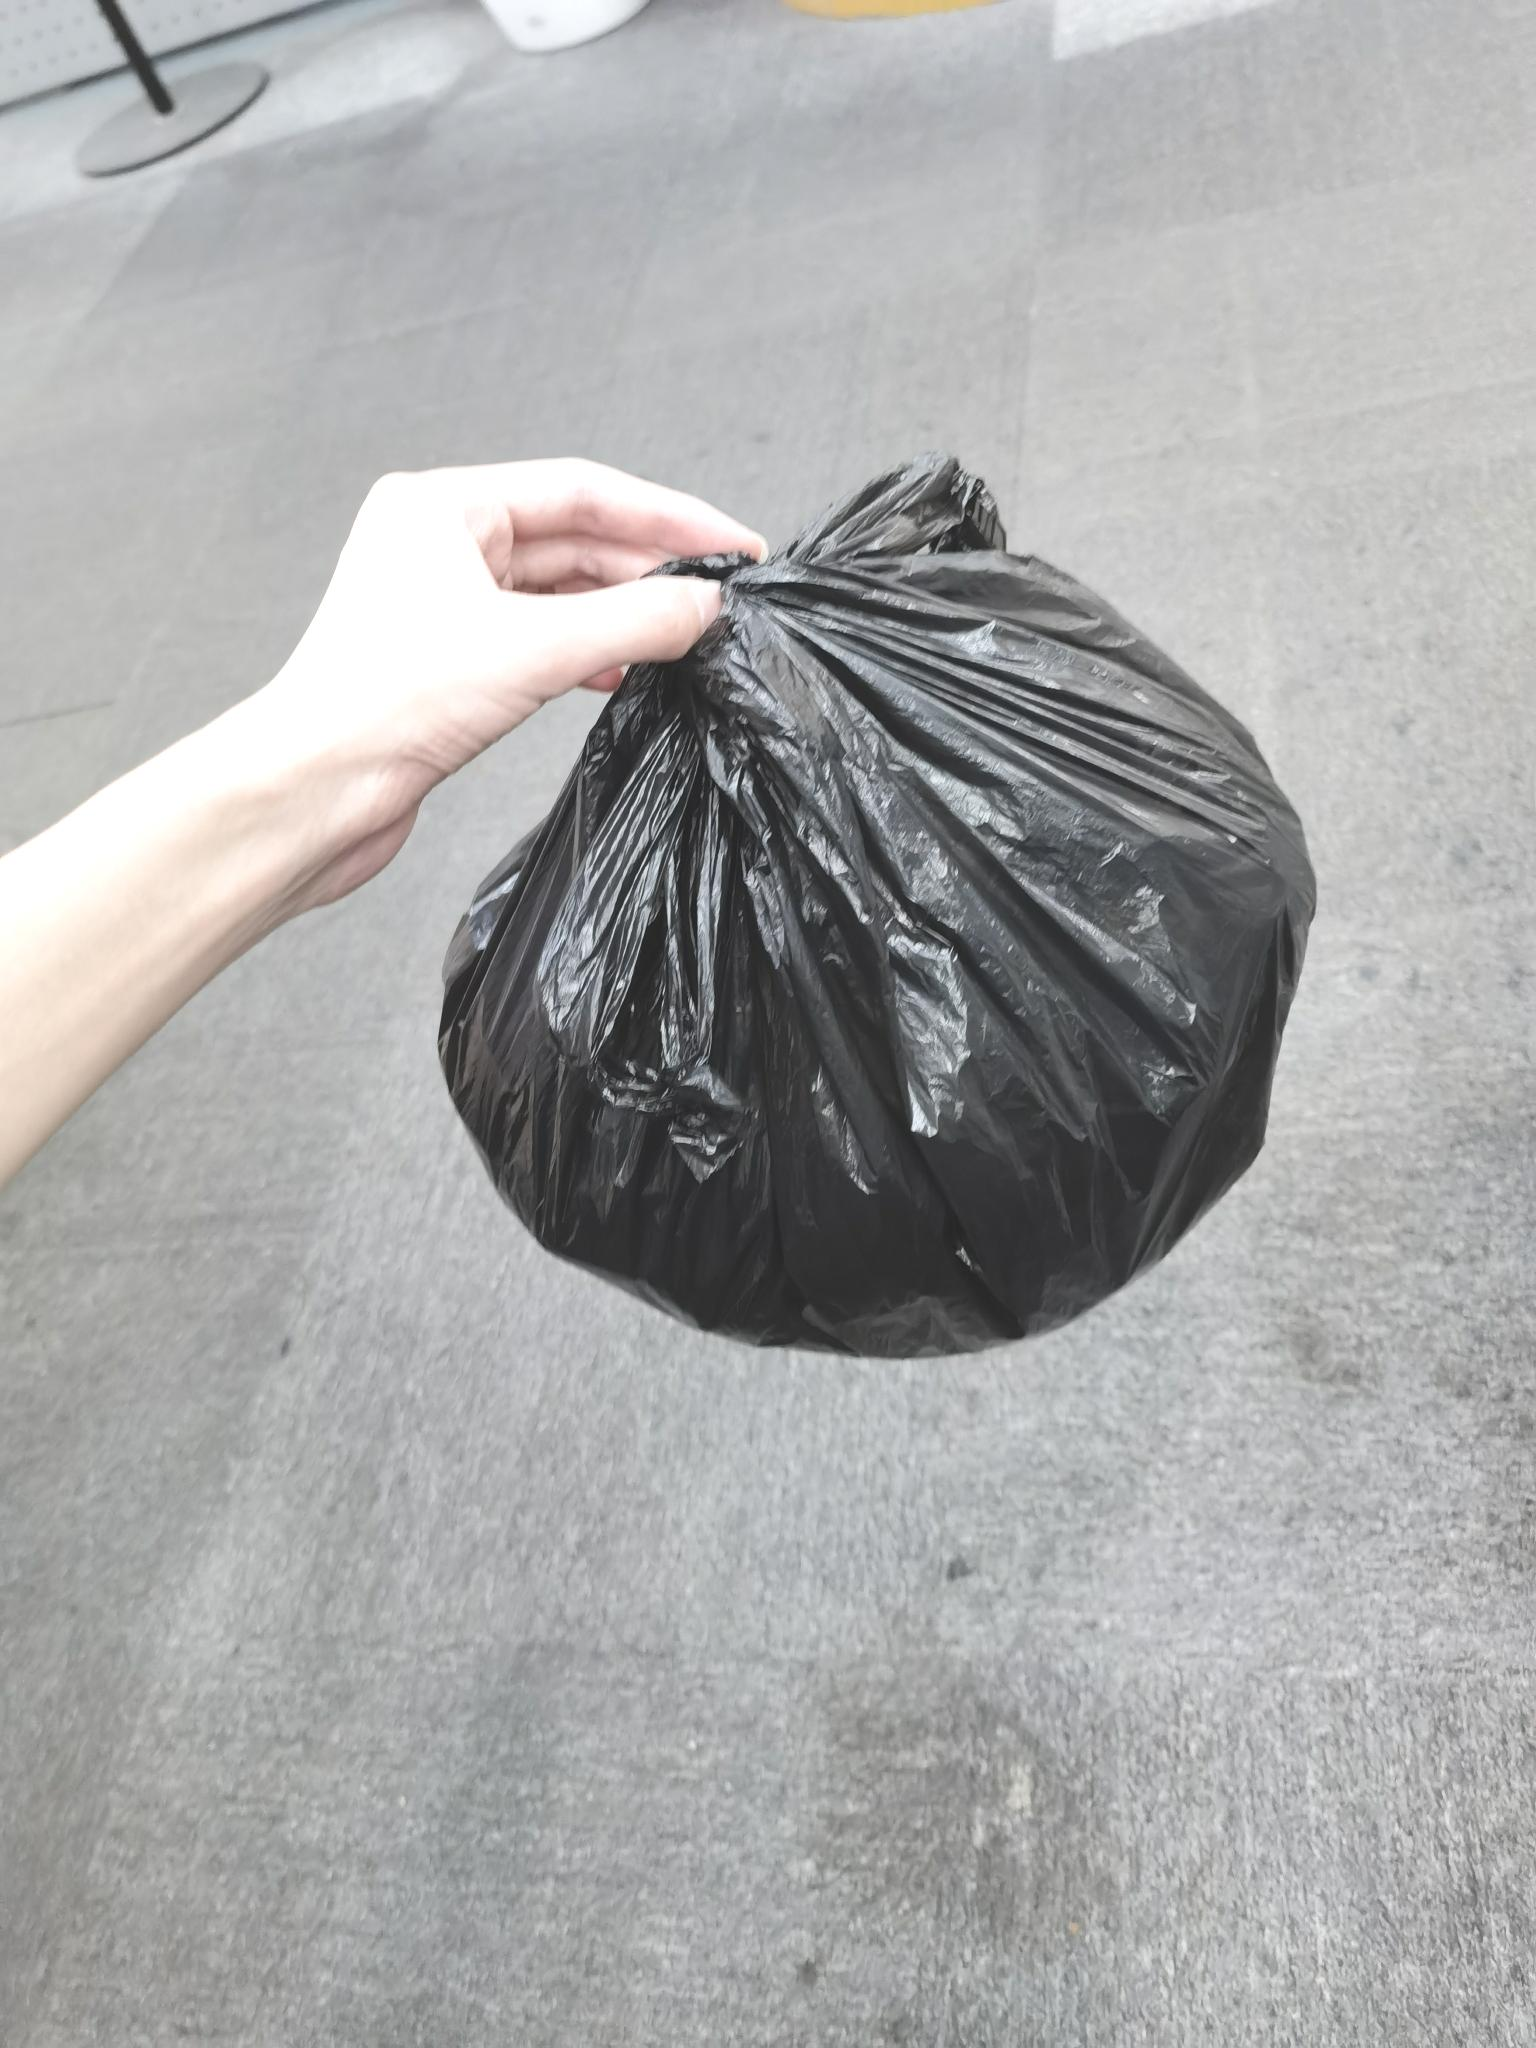black_bag: (431, 456, 1320, 1369)
